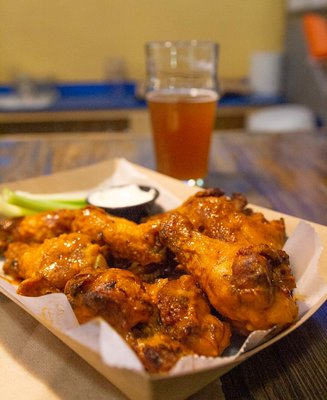pizza: (145, 39, 221, 186)
